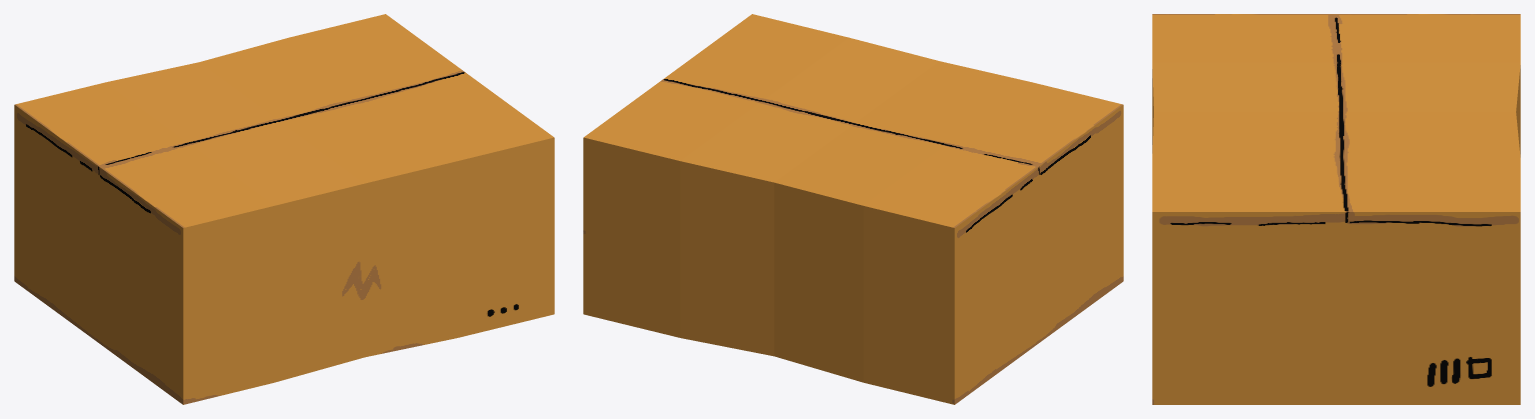
File: CaixaPapelao.fbx
3 views of the same model, side by side, from view 1: azimuth 30°, elevation 25°; view 2: azimuth 150°, elevation 25°; view 3: azimuth 270°, elevation 25° (orthographic). The views are drawn at different scales.
Visible parts, largest first — view 1: Cube; view 2: Cube; view 3: Cube.
Boxes of the visible parts, box(x1,y1,x2,y2) form: Cube: box(14, 14, 554, 404); Cube: box(583, 14, 1123, 404); Cube: box(1152, 14, 1520, 404).
Bounding box in the file's own units: 207 × 94.43 × 163.
1 material, 1 textured.
